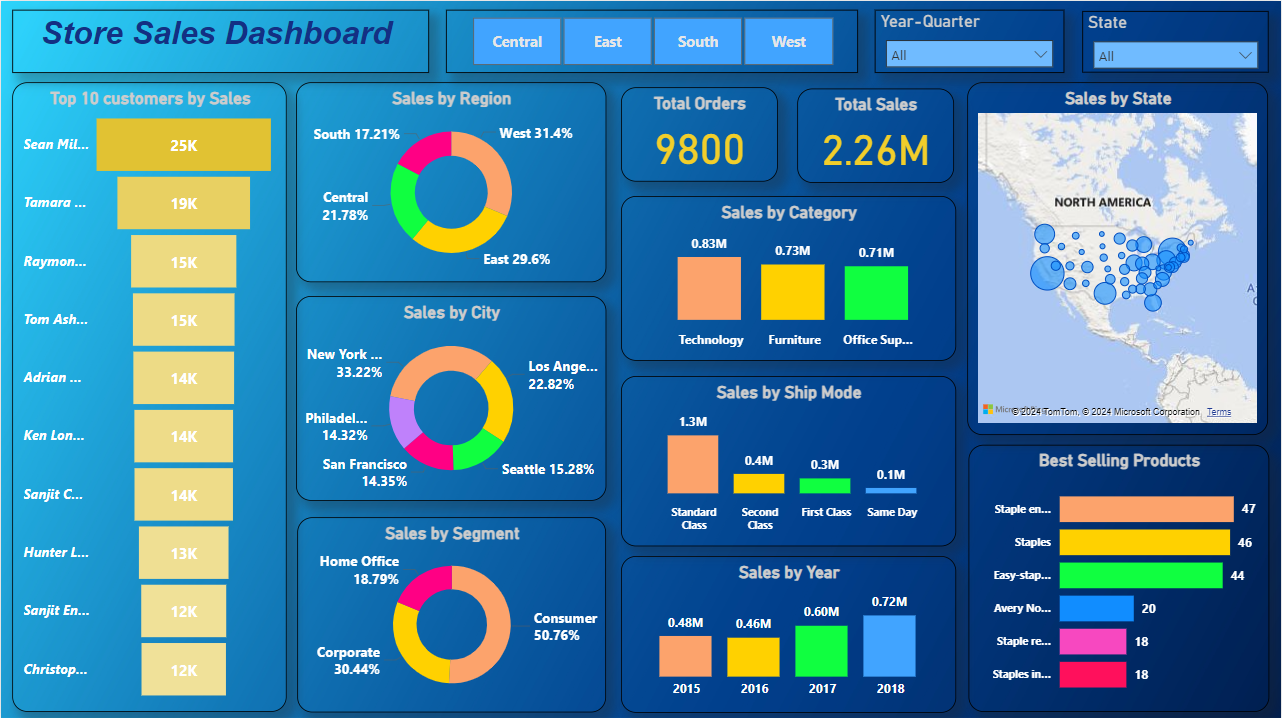

Layout of this report page (visuals, bound fields, positions):
{"tool":"powerbi","page":{"name":"Page 1","canvas":[1280,720],"ordinal":0},"visuals":[{"type":"map","title":"Sales by State","fields":{"Category":["Sales_data.State"],"Size":["Sum(Sales_data.Sales)"]},"box":[966,81,300.5,352.7],"z":0},{"type":"slicer","fields":{"Values":["Sales_data.Region"]},"box":[444.6,8.2,411.7,63.1],"z":1000},{"type":"columnChart","title":" Sales by Year","fields":{"Category":["Sales_data.Order Date.Variation.Date Hierarchy.Year"],"Y":["Sum(Sales_data.Sales)"]},"box":[620.2,554.4,334.8,156.4],"z":2000},{"type":"slicer","title":"State","fields":{"Values":["Sales_data.State"]},"box":[1081.3,9.6,186.6,61.7],"z":3000},{"type":"textbox","box":[11,8.2,417.2,63.1],"z":4000},{"type":"barChart","title":"Best Selling Products ","fields":{"Category":["Sales_data.Product Name"],"Y":["CountNonNull(Sales_data.Sales)"]},"box":[967.4,443.2,300.5,267.6],"z":5000},{"type":"funnel","title":"Top 10 customers by Sales","fields":{"Category":["Sales_data.Customer Name"],"Y":["Sum(Sales_data.Sales)"]},"box":[11,81,274.4,629.8],"z":6000},{"type":"donutChart","title":"Sales by City","fields":{"Category":["Sales_data.City"],"Y":["Sum(Sales_data.Sales)"]},"box":[295,295,310.1,204.5],"z":7000},{"type":"slicer","title":"Year-Quarter","fields":{"Values":["Sales_data.Order Date.Variation.Date Hierarchy.Year","Sales_data.Order Date.Variation.Date Hierarchy.Quarter"]},"box":[874.1,8.2,189.4,63.1],"z":8000},{"type":"columnChart","title":" Sales by Ship Mode","fields":{"Y":["Sum(Sales_data.Sales)"],"Category":["Sales_data.Ship Mode"]},"box":[620.2,374.6,334.8,170.2],"z":9000},{"type":"columnChart","title":" Sales by Category","fields":{"Category":["Sales_data.Category"],"Y":["Sum(Sales_data.Sales)"]},"box":[620.2,194.9,334.8,164.7],"z":10000},{"type":"donutChart","title":"Sales by Region","fields":{"Y":["Sum(Sales_data.Sales)"],"Category":["Sales_data.Region"]},"box":[295,81,310.1,200.3],"z":11000},{"type":"donutChart","title":"Sales by Segment","fields":{"Y":["Sum(Sales_data.Sales)"],"Category":["Sales_data.Segment"]},"box":[296.4,516,308.7,194.9],"z":12000},{"type":"card","title":"Total Orders","fields":{"Values":["Sales_data.Orders"]},"box":[620.2,86.4,156.4,94.7],"z":12001},{"type":"card","title":"Total Sales","fields":{"Values":["Sum(Sales_data.Sales)"]},"box":[795.9,87.8,156.4,94.7],"z":12002}]}

Visuals, with their boxes in screenshot pixels (x1, y1, x2, y2), scaled from the page's 1280x720 canvas onto the 1282x718 screenshot:
"Sales by State" map: {"left": 968, "top": 81, "right": 1268, "bottom": 432}
slicer - Sales_data.Region: {"left": 445, "top": 8, "right": 858, "bottom": 71}
" Sales by Year" columnChart: {"left": 621, "top": 553, "right": 956, "bottom": 709}
"State" slicer: {"left": 1083, "top": 10, "right": 1270, "bottom": 71}
textbox: {"left": 11, "top": 8, "right": 429, "bottom": 71}
"Best Selling Products " barChart: {"left": 969, "top": 442, "right": 1270, "bottom": 709}
"Top 10 customers by Sales" funnel: {"left": 11, "top": 81, "right": 286, "bottom": 709}
"Sales by City" donutChart: {"left": 295, "top": 294, "right": 606, "bottom": 498}
"Year-Quarter" slicer: {"left": 875, "top": 8, "right": 1065, "bottom": 71}
" Sales by Ship Mode" columnChart: {"left": 621, "top": 374, "right": 956, "bottom": 543}
" Sales by Category" columnChart: {"left": 621, "top": 194, "right": 956, "bottom": 359}
"Sales by Region" donutChart: {"left": 295, "top": 81, "right": 606, "bottom": 281}
"Sales by Segment" donutChart: {"left": 297, "top": 515, "right": 606, "bottom": 709}
"Total Orders" card: {"left": 621, "top": 86, "right": 778, "bottom": 181}
"Total Sales" card: {"left": 797, "top": 88, "right": 954, "bottom": 182}
